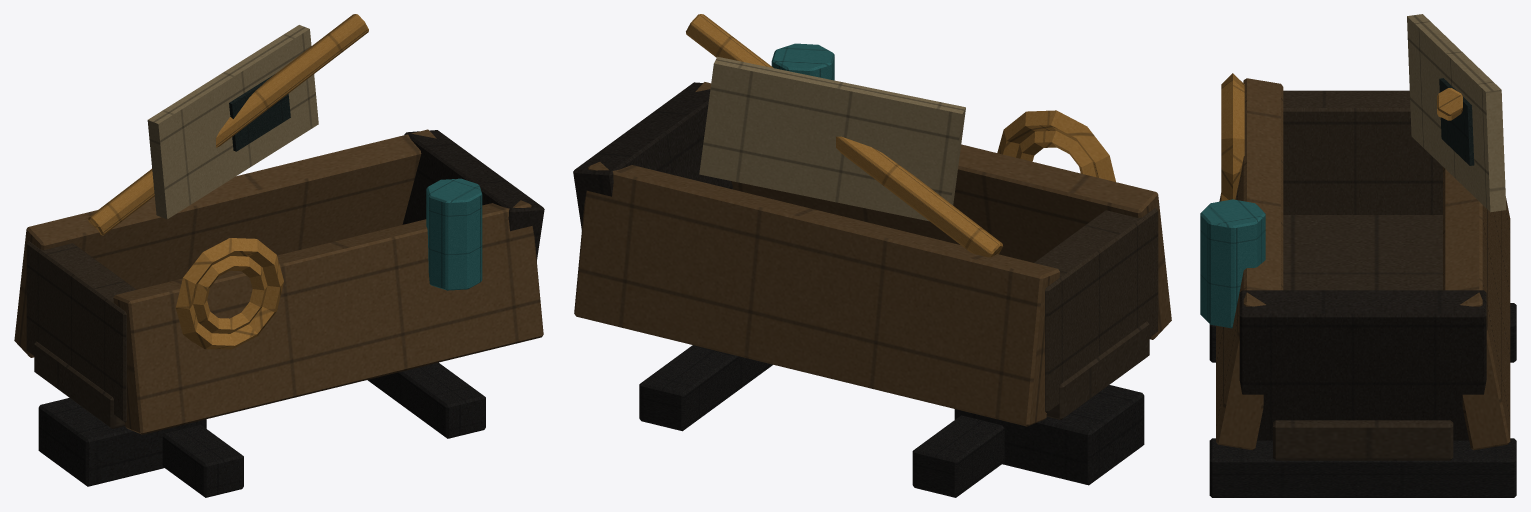
The model's file is covered_wagon.e5.glb.
3 views of the same model, side by side, from view 1: azimuth 30°, elevation 25°; view 2: azimuth 150°, elevation 25°; view 3: azimuth 270°, elevation 25° (orthographic). The views are drawn at different scales.
Visible parts, largest first — view 1: CoveredWagonE5; view 2: CoveredWagonE5; view 3: CoveredWagonE5.
Boxes of the visible parts, x1,y1,x2,y2 form: CoveredWagonE5: (14,14,544,497); CoveredWagonE5: (573,14,1171,497); CoveredWagonE5: (1200,14,1516,497).
Size of the model in its own units: 1.7 by 1.31 by 0.9477.
1 material, 1 textured.
